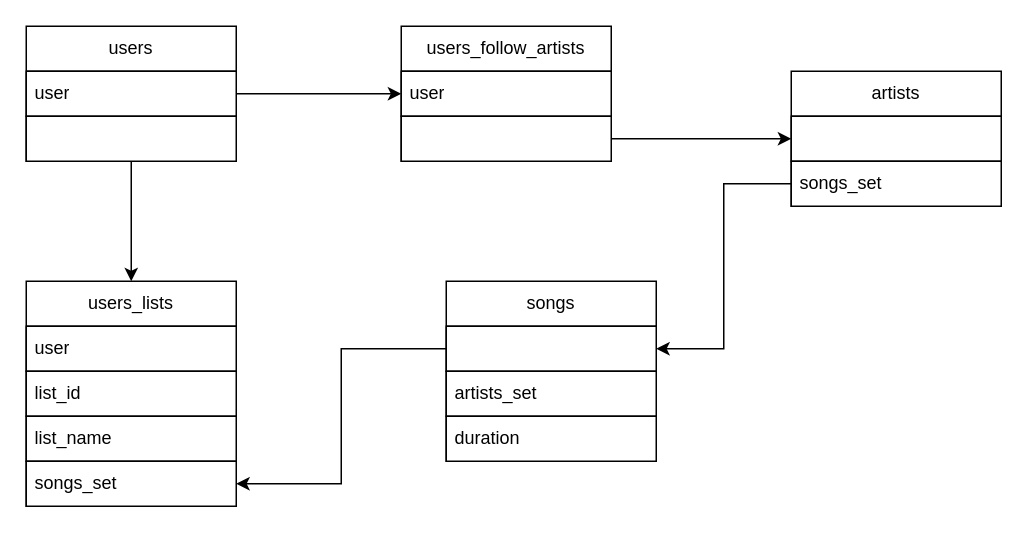
Some shapes in this 1028 by 533 pixel diagram are drawn without their labels. The shapes that lost their labels are listed below. From the top down, each one's centre as x and y in pixels, then its label:
the point at 130,138: password
the point at 505,138: artist
the point at 895,138: name
the point at 550,348: song
